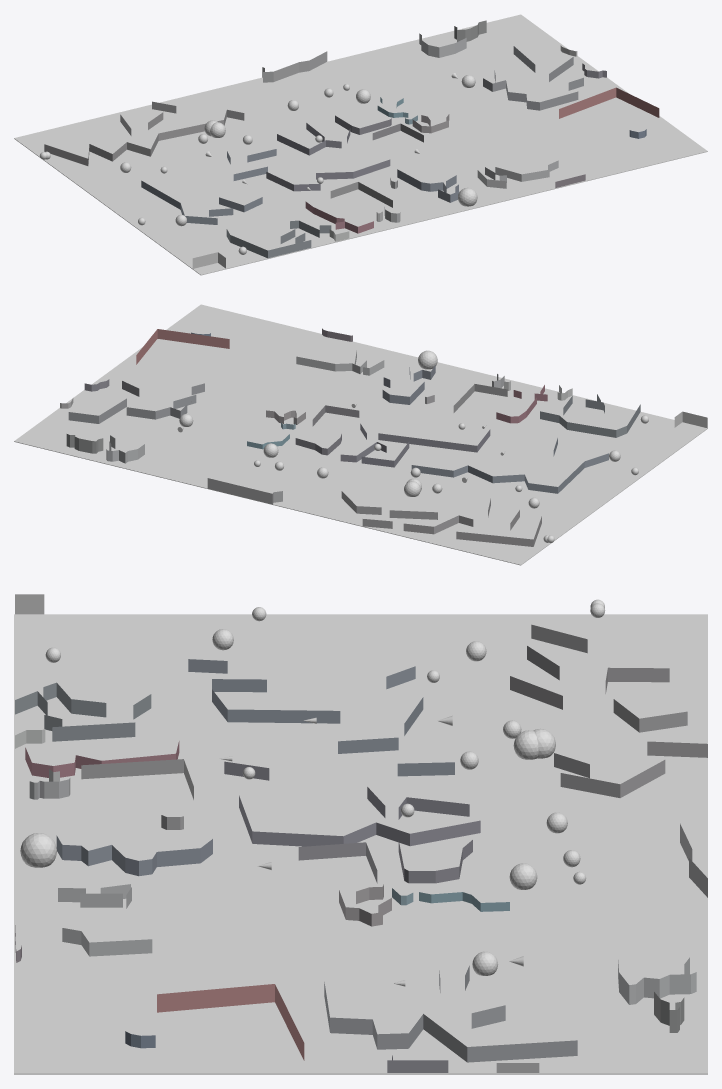
File: scene_6c87ba34-b863-4428-b782-fda6d2ef86de.glb
The picture shows the model from 3 angles, top to bottom: view 1: azimuth 30°, elevation 25°; view 2: azimuth 150°, elevation 25°; view 3: azimuth 270°, elevation 25°; orthographic projection. The views are drawn at different scales.
Visible parts, largest first — view 1: Ground_Base, BLD-027, BLD-018, BLD-020, BLD-023, BLD-006, BLD-013, BLD-008, BLD-026, BLD-012, BLD-009, BLD-025 (+2 smaller); view 2: Ground_Base, BLD-027, BLD-023, BLD-020, BLD-018, BLD-006, BLD-013, BLD-026, BLD-008, BLD-012, BLD-025, BLD-009 (+2 smaller); view 3: Ground_Base, BLD-027, BLD-018, BLD-023, BLD-020, BLD-006, BLD-013, BLD-008, BLD-012, BLD-025, BLD-011, BLD-009 (+8 smaller).
Part boxes in pixels (bbox=[...]): Ground_Base: bbox=[14, 14, 707, 275]; BLD-027: bbox=[44, 101, 244, 165]; BLD-018: bbox=[141, 149, 276, 224]; BLD-020: bbox=[266, 123, 390, 191]; BLD-023: bbox=[483, 46, 583, 110]; BLD-006: bbox=[226, 220, 331, 258]; BLD-013: bbox=[559, 87, 659, 118]; BLD-008: bbox=[477, 160, 558, 188]; BLD-026: bbox=[262, 51, 327, 82]; BLD-012: bbox=[397, 169, 459, 202]; BLD-009: bbox=[305, 201, 373, 233]; BLD-025: bbox=[419, 33, 466, 57]; Ground_Base: bbox=[14, 304, 707, 565]; BLD-027: bbox=[341, 491, 541, 546]; BLD-023: bbox=[68, 381, 204, 423]; BLD-020: bbox=[340, 423, 490, 467]; BLD-018: bbox=[411, 438, 608, 493]; BLD-006: bbox=[540, 394, 640, 437]; BLD-013: bbox=[136, 329, 229, 364]; BLD-026: bbox=[207, 478, 282, 504]; BLD-008: bbox=[296, 350, 384, 375]; BLD-012: bbox=[382, 365, 435, 404]; BLD-025: bbox=[106, 435, 144, 463]; BLD-009: bbox=[496, 385, 547, 423]; Ground_Base: bbox=[14, 614, 707, 1074]; BLD-027: bbox=[510, 624, 707, 797]; BLD-018: bbox=[188, 659, 454, 776]; BLD-023: bbox=[324, 965, 577, 1062]; BLD-020: bbox=[224, 761, 480, 846]; BLD-006: bbox=[15, 682, 151, 741]; BLD-013: bbox=[157, 984, 304, 1060]; BLD-008: bbox=[58, 884, 152, 956]; BLD-012: bbox=[56, 835, 212, 876]; BLD-025: bbox=[618, 957, 696, 1004]; BLD-011: bbox=[81, 759, 193, 799]; BLD-009: bbox=[25, 741, 179, 777].
Size of the model in its own units: 389 by 13.1 by 247.
